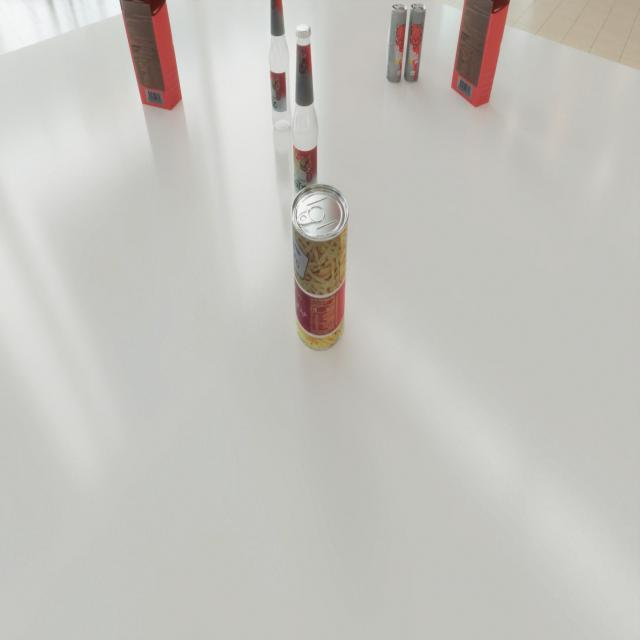Bottle: (291, 24, 319, 218), (268, 0, 292, 132)
HelloPanda: (114, 0, 182, 110), (450, 0, 514, 107)
Potato_sticks: (291, 184, 349, 351)
Rita_zero_sugar: (404, 3, 426, 82), (387, 4, 408, 83)
Salt: (388, 8, 403, 50)
